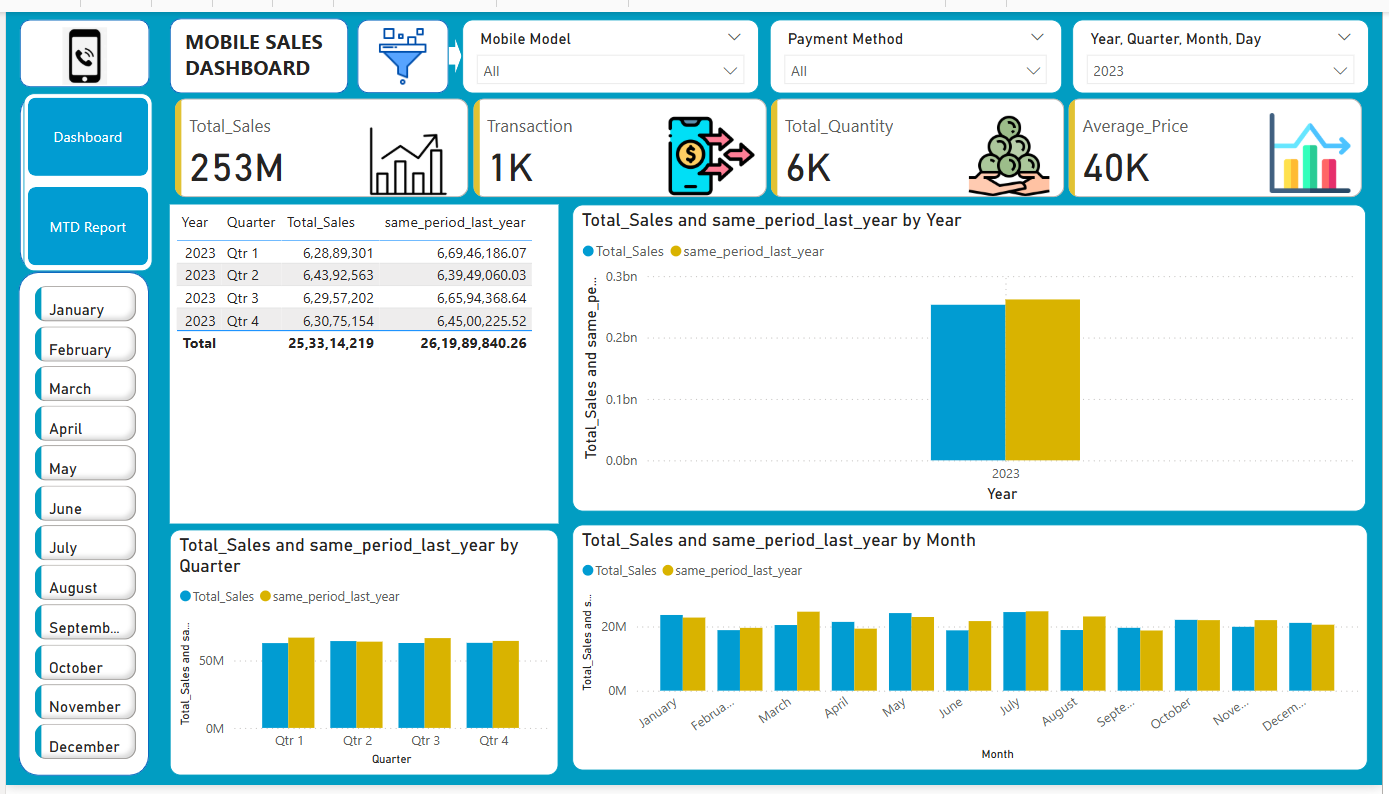

The page's visual inventory and layout, read from the dashboard file:
{"tool":"powerbi","page":{"name":"same period last year","canvas":[1280,720],"ordinal":3},"visuals":[{"type":"shape","box":[12.3,6.9,120.8,63.1],"z":0},{"type":"image","box":[37,9.6,71.4,63.1],"z":1000},{"type":"shape","box":[12.3,75.5,123.5,166],"z":2000},{"type":"cardVisual","fields":{"Data":["mobile_sales_dataset.Total_Sales","mobile_sales_dataset.Transaction","mobile_sales_dataset.Total_Quantity","mobile_sales_dataset.Average_Price"]},"box":[152.3,75.5,1115.6,102.9],"z":3000},{"type":"slicer","fields":{"Values":["mobile_sales_dataset.Mobile Model"]},"box":[424,6.9,275.8,68.6],"z":4000},{"type":"slicer","fields":{"Values":["mobile_sales_dataset.Payment Method"]},"box":[710.8,6.9,271.7,68.6],"z":5000},{"type":"slicer","fields":{"Values":["custom_calender.Date.Variation.Date Hierarchy.Year","custom_calender.Date.Variation.Date Hierarchy.Quarter","custom_calender.Date.Variation.Date Hierarchy.Month","custom_calender.Date.Variation.Date Hierarchy.Day"]},"box":[992.1,6.9,275.8,68.6],"z":6000},{"type":"shape","box":[326.6,6.9,85.1,68.6],"z":7000},{"type":"image","box":[318.4,9.6,101.5,64.5],"z":8000},{"type":"shape","box":[411.7,24.7,12.3,32.9],"z":9000},{"type":"shape","box":[152.3,5.5,166,70],"z":10000},{"type":"shape","box":[11.4,241.4,121.4,468.6],"z":11000},{"type":"textbox","box":[161.9,9.6,145.5,64.5],"z":12000},{"type":"tableEx","fields":{"Values":["custom_calender.Date.Variation.Date Hierarchy.Year","custom_calender.Date.Variation.Date Hierarchy.Quarter","mobile_sales_dataset.Total_Sales","mobile_sales_dataset.same_period_last_year"]},"box":[152.5,178.8,361.2,170],"z":14000},{"type":"clusteredColumnChart","fields":{"Category":["custom_calender.Date.Variation.Date Hierarchy.Year","custom_calender.Date.Variation.Date Hierarchy.Quarter"],"Y":["mobile_sales_dataset.Total_Sales","mobile_sales_dataset.same_period_last_year"]},"box":[527.5,178.8,280,285],"z":15000},{"type":"clusteredColumnChart","fields":{"Y":["mobile_sales_dataset.Total_Sales","mobile_sales_dataset.same_period_last_year"],"Category":["custom_calender.Date.Variation.Date Hierarchy.Month"]},"box":[527.1,477.1,740,228.6],"z":16000},{"type":"clusteredColumnChart","fields":{"Category":["custom_calender.Date.Variation.Date Hierarchy.Quarter"],"Y":["mobile_sales_dataset.Total_Sales","mobile_sales_dataset.same_period_last_year"]},"box":[152.5,360,361.2,350],"z":17000},{"type":"pageNavigator","box":[13.8,75,120,162.5],"z":18000},{"type":"advancedSlicerVisual","fields":{"Values":["custom_calender.Date.Variation.Date Hierarchy.Month"]},"box":[22,249.7,104.3,455.6],"z":19000},{"type":"clusteredColumnChart","fields":{"Y":["mobile_sales_dataset.Total_Sales","mobile_sales_dataset.same_period_last_year"],"Category":["custom_calender.Date.Variation.Date Hierarchy.Day"]},"box":[817.5,178.8,448.8,285],"z":20000}]}

Visuals, with their boxes in screenshot pixels (x1, y1, x2, y2), scaled from the page's 1280x720 canvas onto the 1389x794 screenshot:
shape: x1=13 y1=8 x2=144 y2=77
image: x1=40 y1=11 x2=118 y2=80
shape: x1=13 y1=83 x2=147 y2=266
cardVisual - mobile_sales_dataset.Total_Sales x mobile_sales_dataset.Transaction: x1=165 y1=83 x2=1376 y2=197
slicer - mobile_sales_dataset.Mobile Model: x1=460 y1=8 x2=759 y2=83
slicer - mobile_sales_dataset.Payment Method: x1=771 y1=8 x2=1066 y2=83
slicer - custom_calender.Date.Variation.Date Hierarchy.Year x custom_calender.Date.Variation.Date Hierarchy.Quarter: x1=1077 y1=8 x2=1376 y2=83
shape: x1=354 y1=8 x2=447 y2=83
image: x1=346 y1=11 x2=456 y2=82
shape: x1=447 y1=27 x2=460 y2=64
shape: x1=165 y1=6 x2=345 y2=83
shape: x1=12 y1=266 x2=144 y2=783
textbox: x1=176 y1=11 x2=334 y2=82
tableEx - custom_calender.Date.Variation.Date Hierarchy.Year x custom_calender.Date.Variation.Date Hierarchy.Quarter: x1=165 y1=197 x2=557 y2=385
clusteredColumnChart - custom_calender.Date.Variation.Date Hierarchy.Year x custom_calender.Date.Variation.Date Hierarchy.Quarter: x1=572 y1=197 x2=876 y2=511
clusteredColumnChart - mobile_sales_dataset.Total_Sales x mobile_sales_dataset.same_period_last_year: x1=572 y1=526 x2=1375 y2=778
clusteredColumnChart - custom_calender.Date.Variation.Date Hierarchy.Quarter x mobile_sales_dataset.Total_Sales: x1=165 y1=397 x2=557 y2=783
pageNavigator: x1=15 y1=83 x2=145 y2=262
advancedSlicerVisual - custom_calender.Date.Variation.Date Hierarchy.Month: x1=24 y1=275 x2=137 y2=778
clusteredColumnChart - mobile_sales_dataset.Total_Sales x mobile_sales_dataset.same_period_last_year: x1=887 y1=197 x2=1374 y2=511
